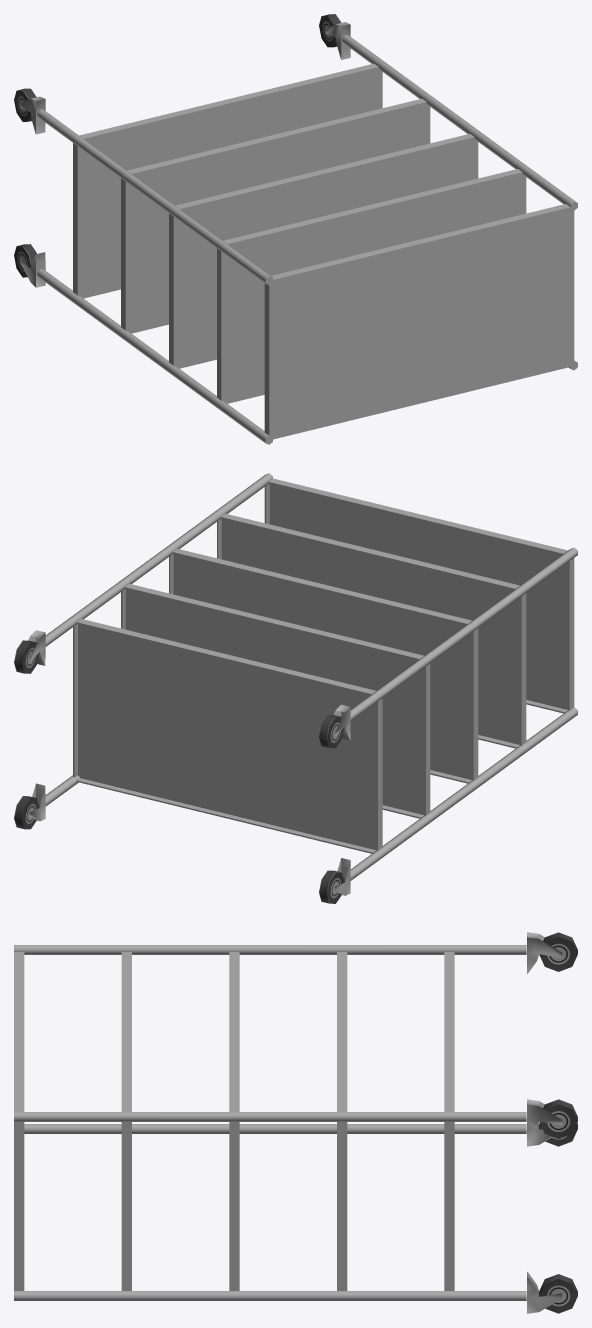
Rendered from StorageRack.obj.
3 views of the same model, one above another, from view 1: azimuth 30°, elevation 25°; view 2: azimuth 150°, elevation 25°; view 3: azimuth 270°, elevation 25° (orthographic). The views are drawn at different scales.
Parts seen in each view (by area): view 1: StorageRack; view 2: StorageRack; view 3: StorageRack.
Boxes of the visible parts, box(x1,y1,x2,y2) form: StorageRack: box(14, 14, 577, 444); StorageRack: box(14, 473, 577, 903); StorageRack: box(14, 932, 577, 1313).
Size of the model in its own units: 1.26 by 0.7144 by 1.74.
1 material, 1 textured.
